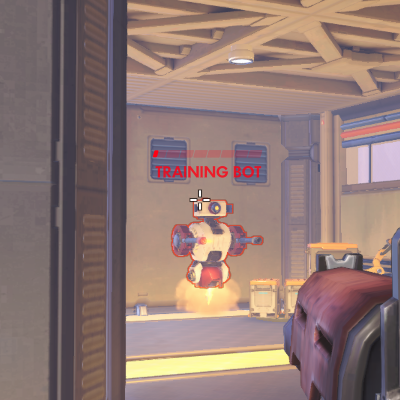hpbar: (153, 150, 262, 158)
